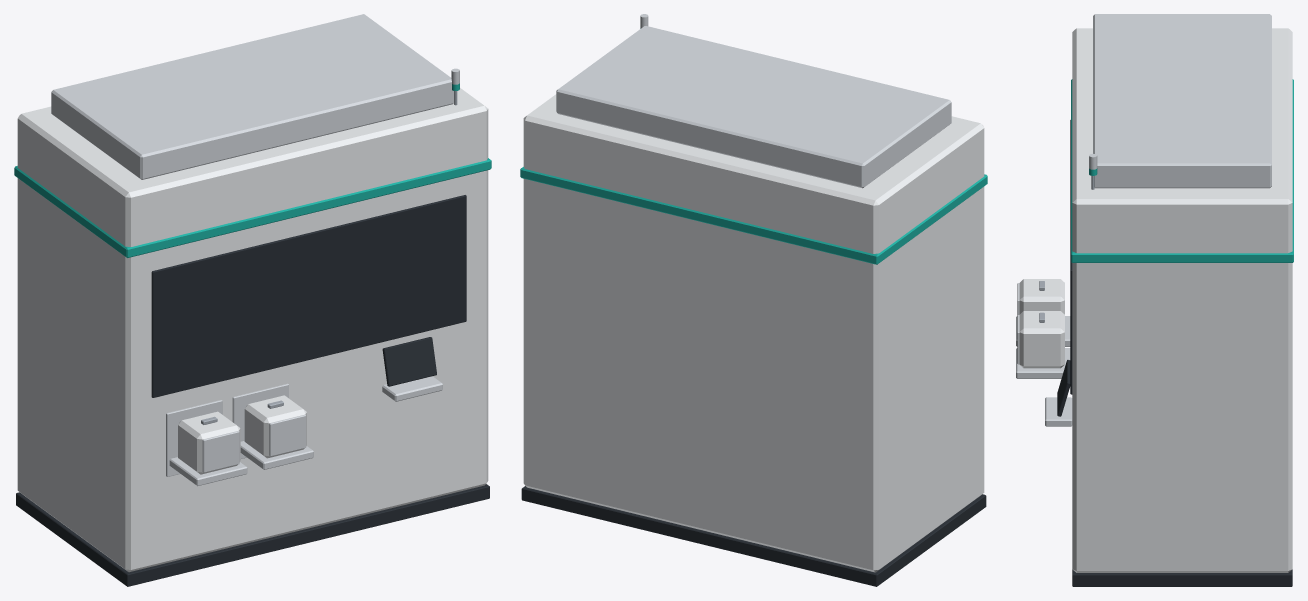
File: wafer-stocker.glb
3 views of the same model, side by side, from view 1: azimuth 30°, elevation 25°; view 2: azimuth 150°, elevation 25°; view 3: azimuth 270°, elevation 25° (orthographic). The views are drawn at different scales.
Visible parts, largest first — view 1: wafer-stocker; view 2: wafer-stocker; view 3: wafer-stocker.
Part boxes in pixels (x1=…): wafer-stocker: x1=14, y1=14, x2=491, y2=586; wafer-stocker: x1=520, y1=14, x2=987, y2=586; wafer-stocker: x1=1016, y1=14, x2=1293, y2=586.
Bounding box in the file's own units: 3.02 × 3.37 × 2.02.
